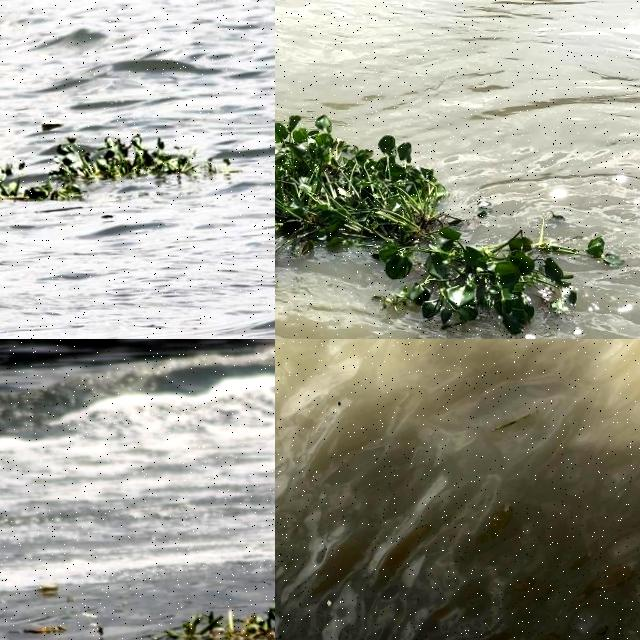water-hyacinth: (276, 81, 495, 291), (375, 209, 608, 340), (1, 127, 228, 208), (156, 593, 276, 640)
